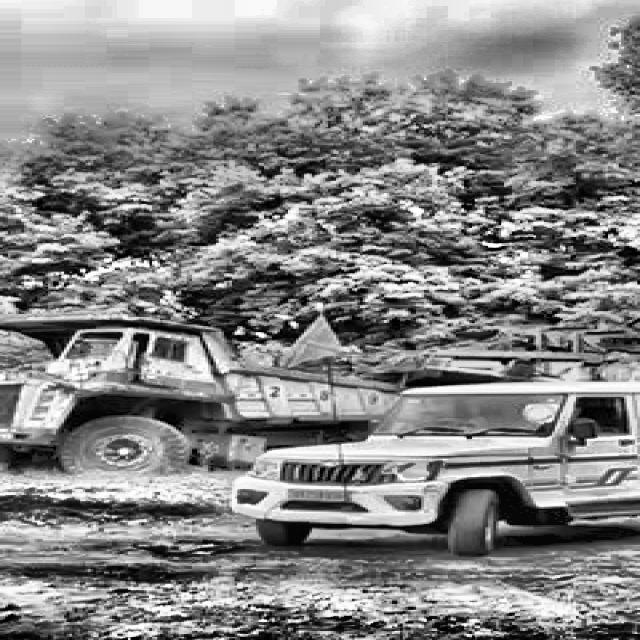light_vehicle: (240, 377, 640, 548)
